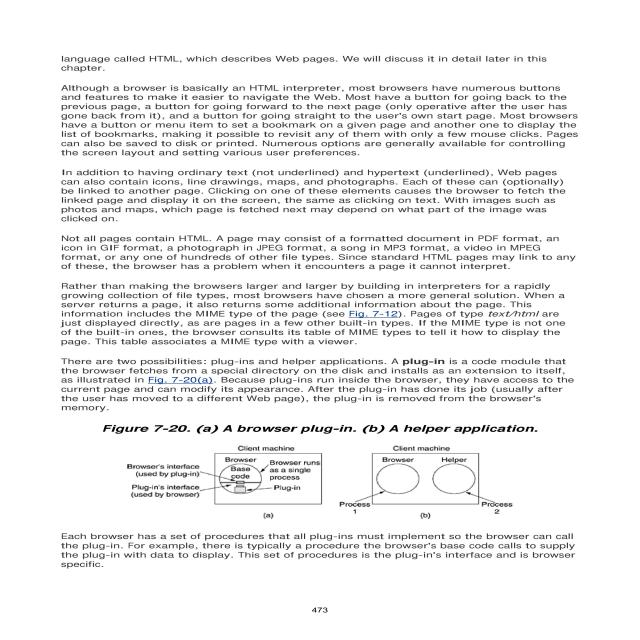diagram: (90, 416, 578, 512)
